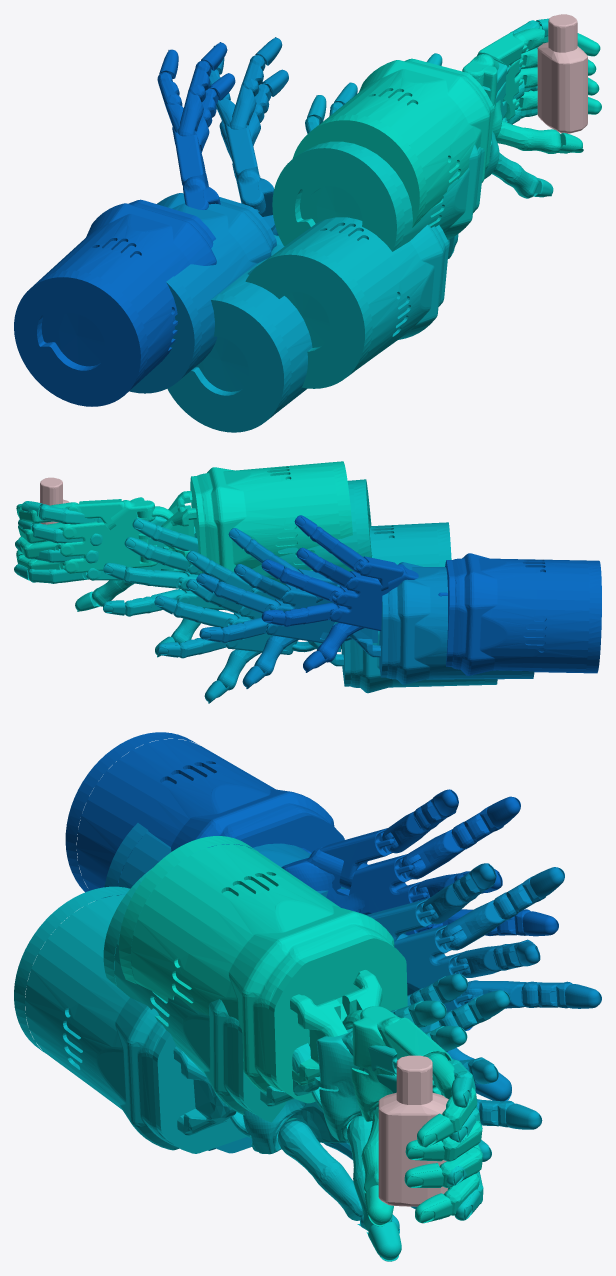
3 views of the same model, one above another, from view 1: azimuth 30°, elevation 25°; view 2: azimuth 150°, elevation 25°; view 3: azimuth 270°, elevation 25° (orthographic). The views are drawn at different scales.
Parts seen in each view (by area): view 1: world, decomposed.obj; view 2: world, decomposed.obj; view 3: world, decomposed.obj.
Boxes of the visible parts, x1=… form: world: x1=14, y1=18, x2=601, y2=432; decomposed.obj: x1=537, y1=14, x2=587, y2=133; world: x1=14, y1=461, x2=601, y2=703; decomposed.obj: x1=40, y1=477, x2=69, y2=524; world: x1=14, y1=732, x2=601, y2=1261; decomposed.obj: x1=378, y1=1055, x2=448, y2=1206.
Bounding box in the file's own units: 0.7253 × 0.2819 × 0.4246.
